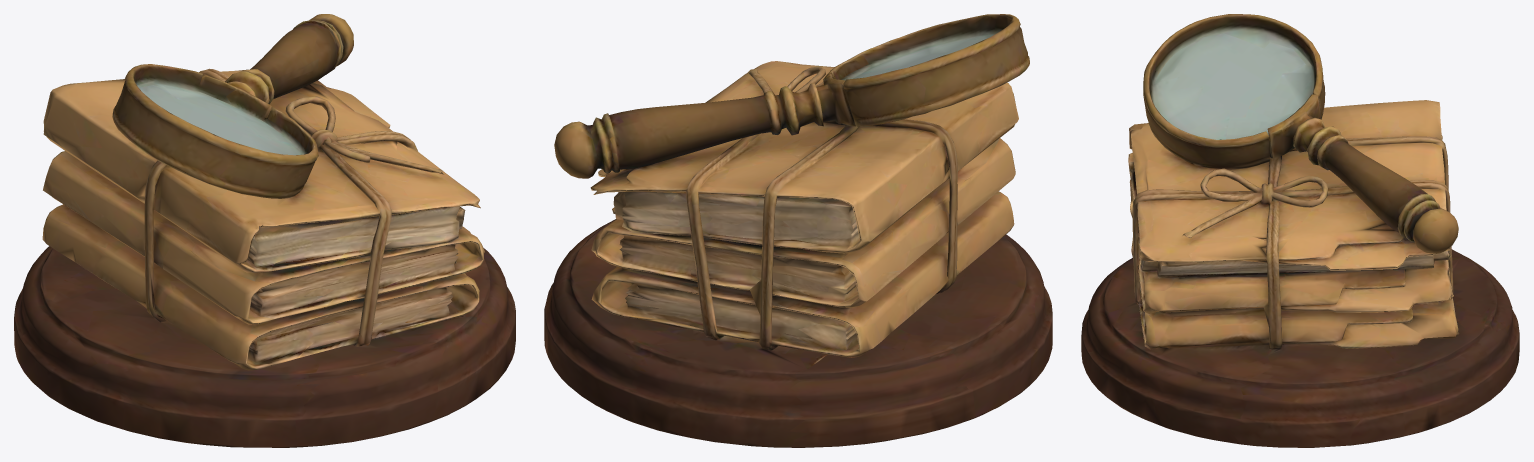
File: crime.glb
3 renders of one model, left to right at view 1: azimuth 30°, elevation 25°; view 2: azimuth 150°, elevation 25°; view 3: azimuth 270°, elevation 25°, orthographic. The views are drawn at different scales.
Parts seen in each view (by area): view 1: tripo_node_a4afb58a-f519-46bd-86a3-3e987b832f41; view 2: tripo_node_a4afb58a-f519-46bd-86a3-3e987b832f41; view 3: tripo_node_a4afb58a-f519-46bd-86a3-3e987b832f41.
Part boxes in pixels (x1,y1,x2,y2): tripo_node_a4afb58a-f519-46bd-86a3-3e987b832f41: (14,14,515,447); tripo_node_a4afb58a-f519-46bd-86a3-3e987b832f41: (544,14,1052,447); tripo_node_a4afb58a-f519-46bd-86a3-3e987b832f41: (1081,14,1519,447).
Size of the model in its own units: 0.9998 by 0.6921 by 0.9993.
Materials: 1 (1 with a texture image).
